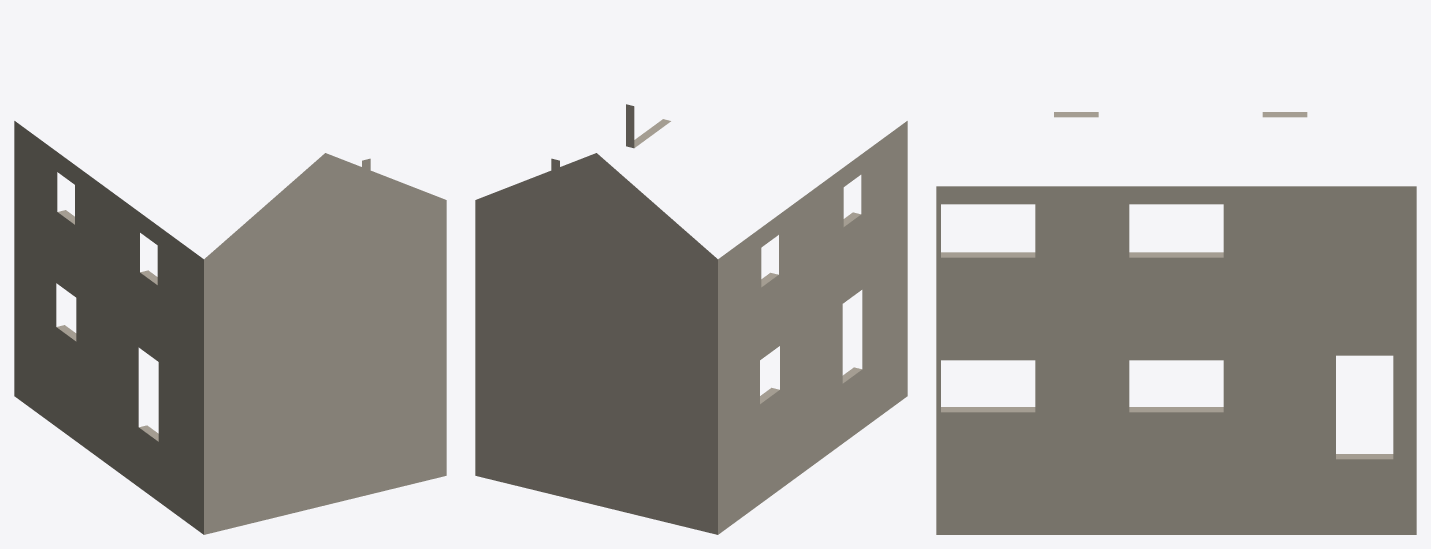
The model's file is SM_Bld_050_Render.glb.
3 renders of one model, left to right at view 1: azimuth 30°, elevation 25°; view 2: azimuth 150°, elevation 25°; view 3: azimuth 270°, elevation 25°, orthographic. The views are drawn at different scales.
Parts seen in each view (by area): view 1: SM_Bld_050_Render; view 2: SM_Bld_050_Render; view 3: SM_Bld_050_Render.
Boxes of the visible parts, x1,y1,x2,y2 form: SM_Bld_050_Render: [14, 121, 446, 534]; SM_Bld_050_Render: [475, 104, 907, 534]; SM_Bld_050_Render: [936, 112, 1416, 534].
Size of the model in its own units: 6.36 by 8.82 by 8.61.
